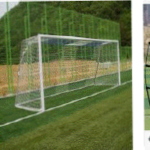goals: (13, 32, 125, 114)
